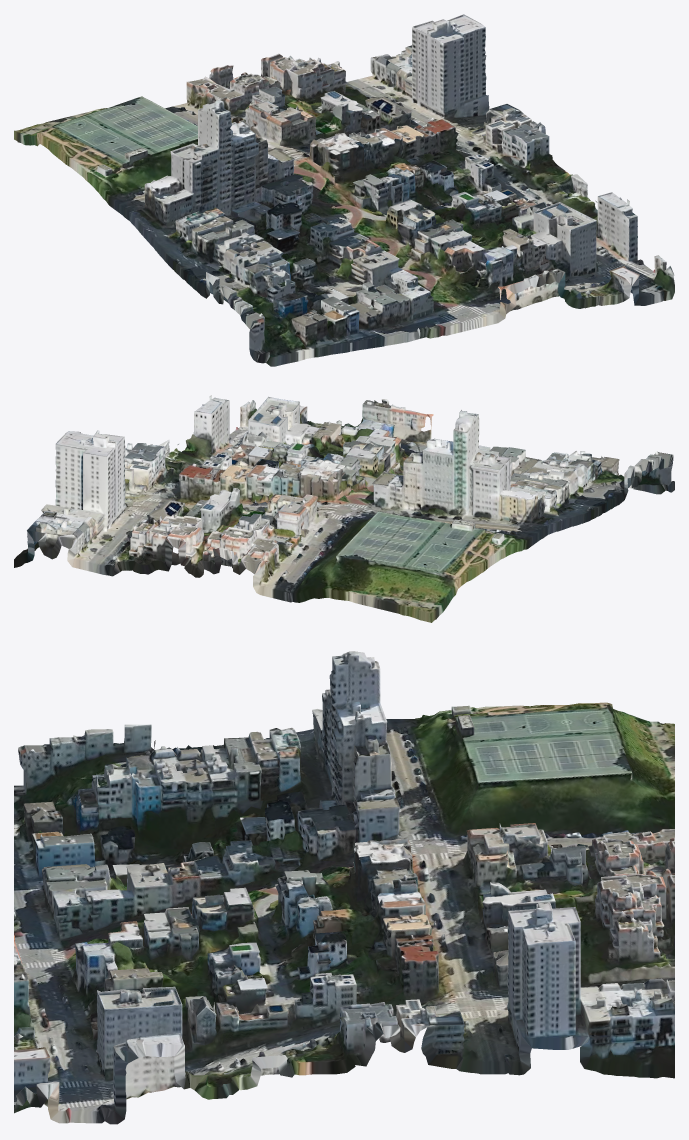
The model's file is z17-20964-50649-h0-yup-uvflip-v3-world.glb.
3 renders of one model, top to bottom at view 1: azimuth 30°, elevation 25°; view 2: azimuth 150°, elevation 25°; view 3: azimuth 270°, elevation 25°, orthographic. The views are drawn at different scales.
Size of the model in its own units: 241 by 103 by 243.
Materials: 1 (1 with a texture image).
